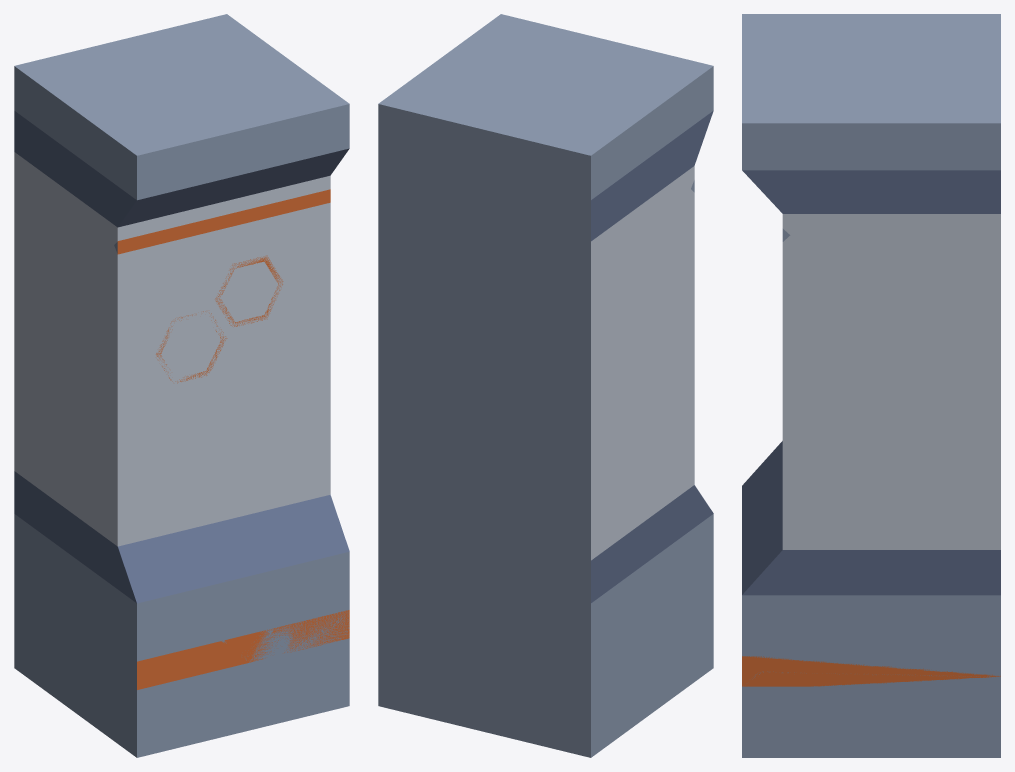
File: orangeWallVarients.fbx
The picture shows the model from 3 angles, left to right: view 1: azimuth 30°, elevation 25°; view 2: azimuth 150°, elevation 25°; view 3: azimuth 270°, elevation 25°; orthographic projection. The views are drawn at different scales.
Visible parts, largest first — view 1: orangeWallCorner, orangeWall2, orangeWall1, orangeWall1.3; view 2: orangeWallCorner, orangeWall1; view 3: orangeWall1, orangeWallCorner, orangeWall1.3.
Boxes of the visible parts, left/top/right/bottom form: orangeWallCorner: left=14, top=14, right=349, bottom=757; orangeWall2: left=119, top=190, right=349, bottom=704; orangeWall1: left=119, top=148, right=349, bottom=550; orangeWall1.3: left=119, top=204, right=348, bottom=551; orangeWallCorner: left=378, top=14, right=713, bottom=757; orangeWall1: left=378, top=148, right=590, bottom=756; orangeWall1: left=742, top=170, right=1000, bottom=757; orangeWallCorner: left=742, top=14, right=1000, bottom=757; orangeWall1.3: left=743, top=446, right=782, bottom=592.
Bounding box in the file's own units: 200 × 541 × 200.
